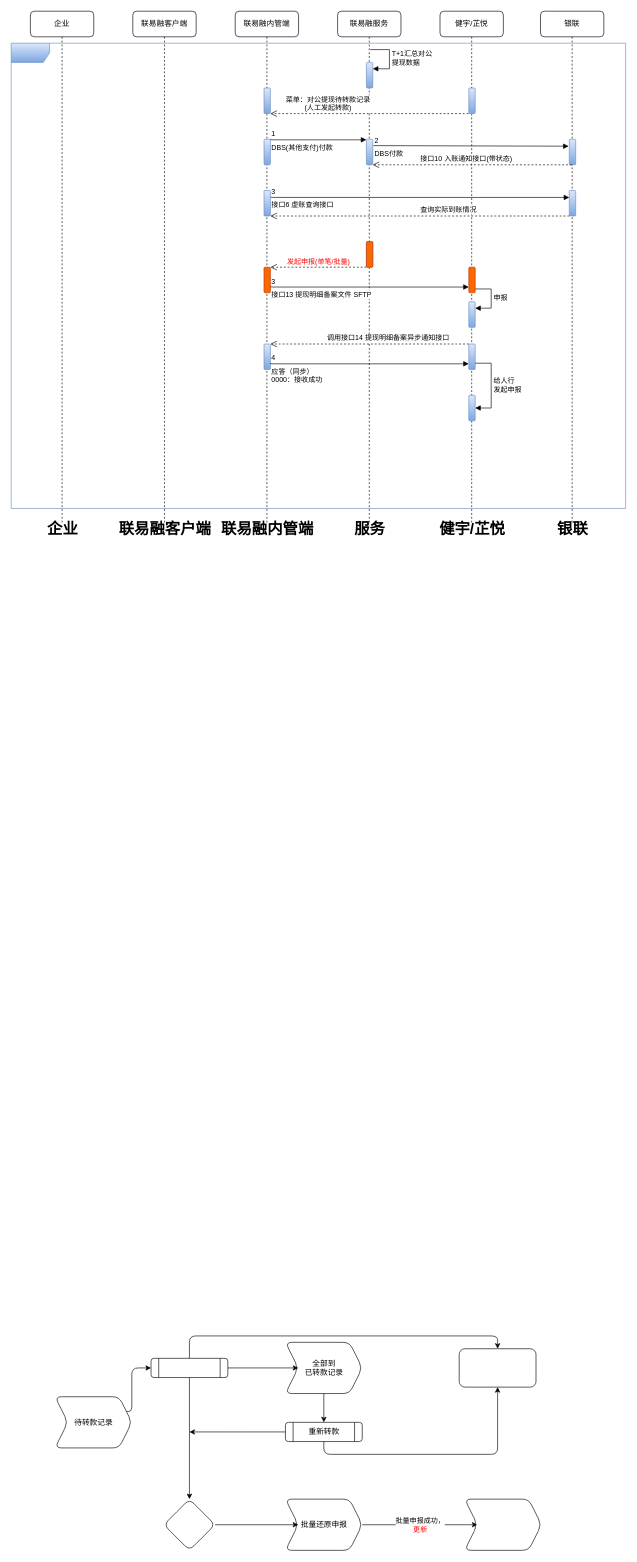
Image size: 637x1562. Some labels were removed from this diagram. The centre of each missing label's shape, as x and y in pixels:
发起转账: pixel 189 1368
如发起转款选择 item ＞1: pixel 189 1524
对公提现: pixel 318 275
提现已转款记录 对公申报状态: pixel 502 1524
触发转款， 到转账记录: pixel 497 1367
